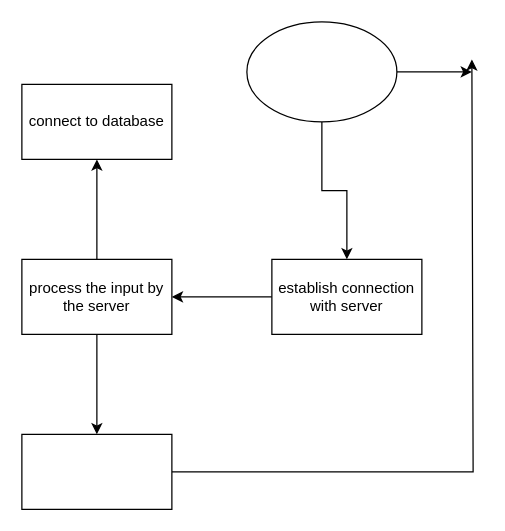
Some shapes in this 505 by 531 pixel diagram are drawn without their labels. The shapes that lost their labels are listed below. From the top down, each one's box as (x1, y1, x2, y2) in pixels, then its label:
(246, 21, 397, 122): Accept an input
(21, 433, 172, 509): send the result back to the computer
